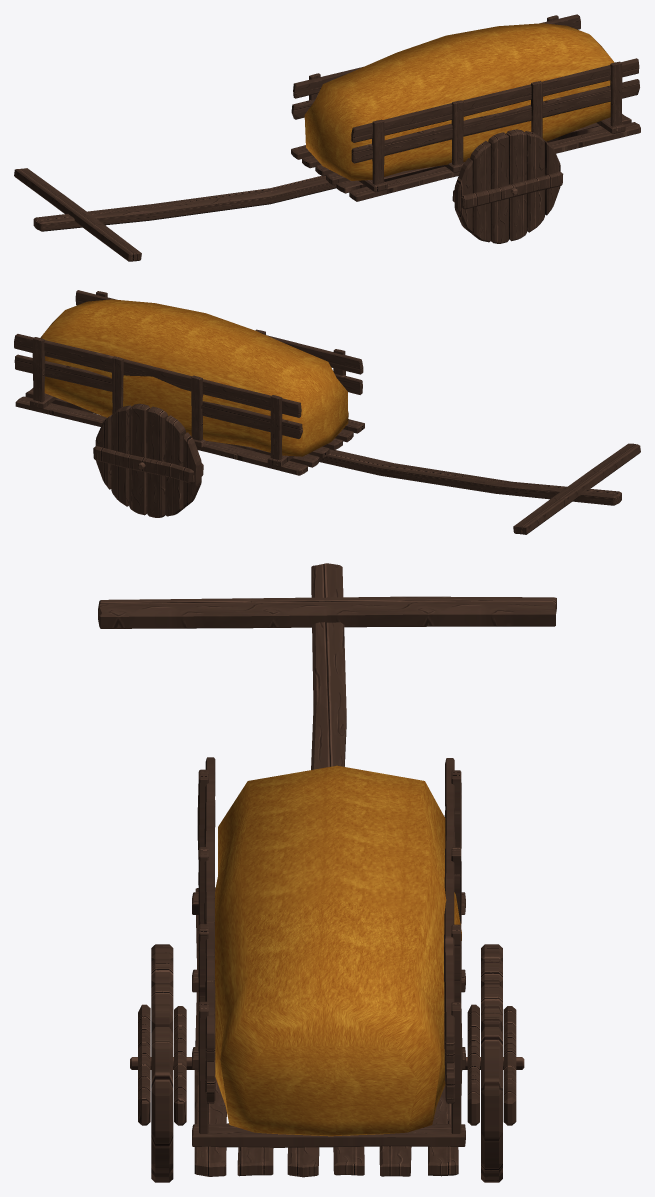
The model's file is BullCart.fbx.
3 renders of one model, top to bottom at view 1: azimuth 30°, elevation 25°; view 2: azimuth 150°, elevation 25°; view 3: azimuth 270°, elevation 25°, orthographic. The views are drawn at different scales.
Parts seen in each view (by area): view 1: Carriage; view 2: Carriage; view 3: Carriage.
Boxes of the visible parts, left/top/right/bottom form: Carriage: left=14, top=14, right=640, bottom=261; Carriage: left=14, top=290, right=640, bottom=534; Carriage: left=98, top=563, right=556, bottom=1182.
Bounding box in the file's own units: 2.42 × 0.6622 × 0.8355.
